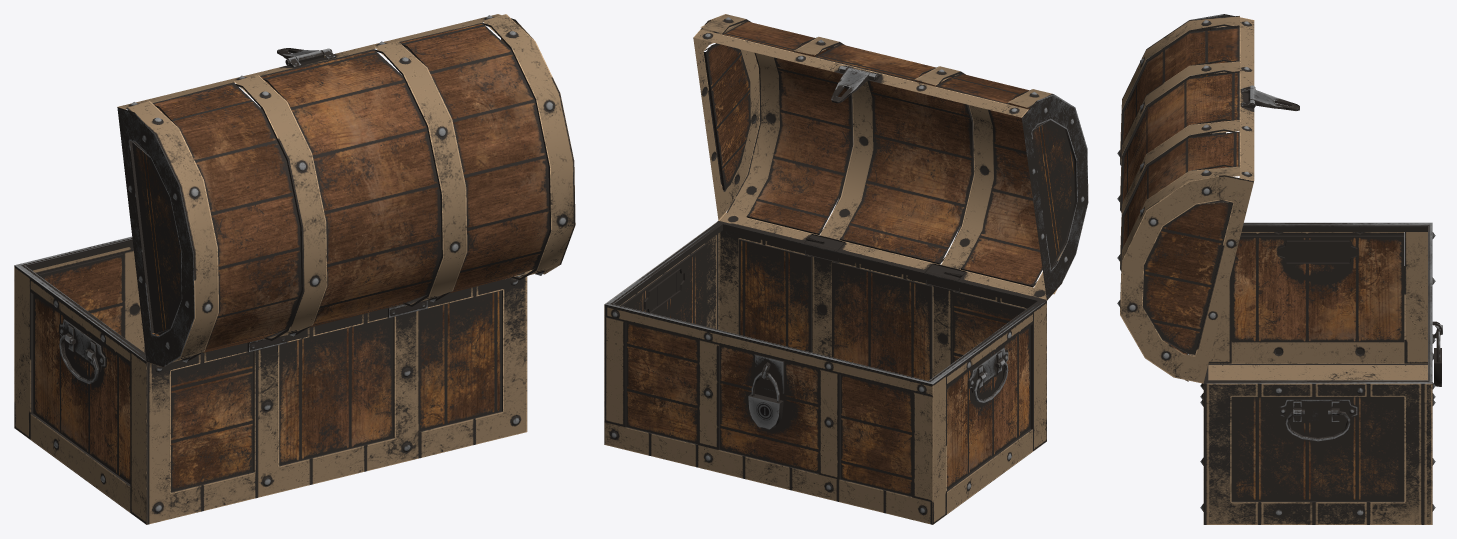
The model's file is chest_open_lod1.glb.
The picture shows the model from 3 angles, left to right: view 1: azimuth 30°, elevation 25°; view 2: azimuth 150°, elevation 25°; view 3: azimuth 270°, elevation 25°; orthographic projection. The views are drawn at different scales.
Parts seen in each view (by area): view 1: chest_open_lod1; view 2: chest_open_lod1; view 3: chest_open_lod1.
Boxes of the visible parts, x1,y1,x2,y2 form: chest_open_lod1: (14, 14, 575, 524); chest_open_lod1: (604, 14, 1088, 524); chest_open_lod1: (1117, 14, 1442, 524).
Bounding box in the file's own units: 0.4388 × 0.4368 × 0.3679.
1 material, 1 textured.
